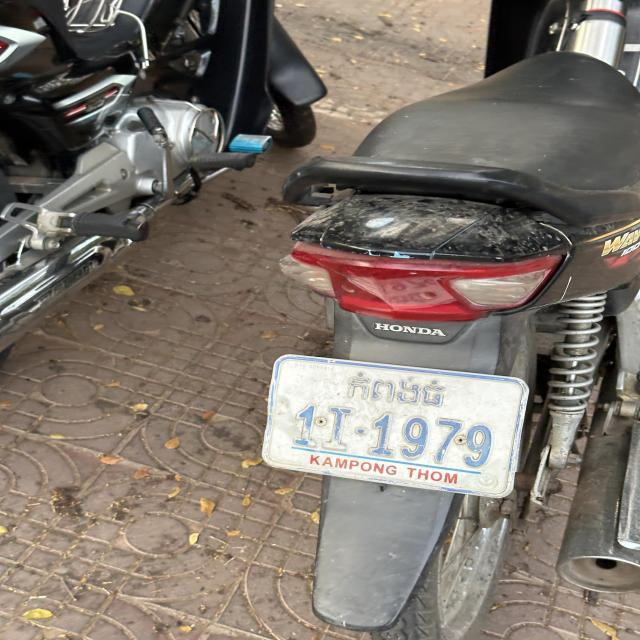Kampong_Thom: (345, 368, 452, 412)
